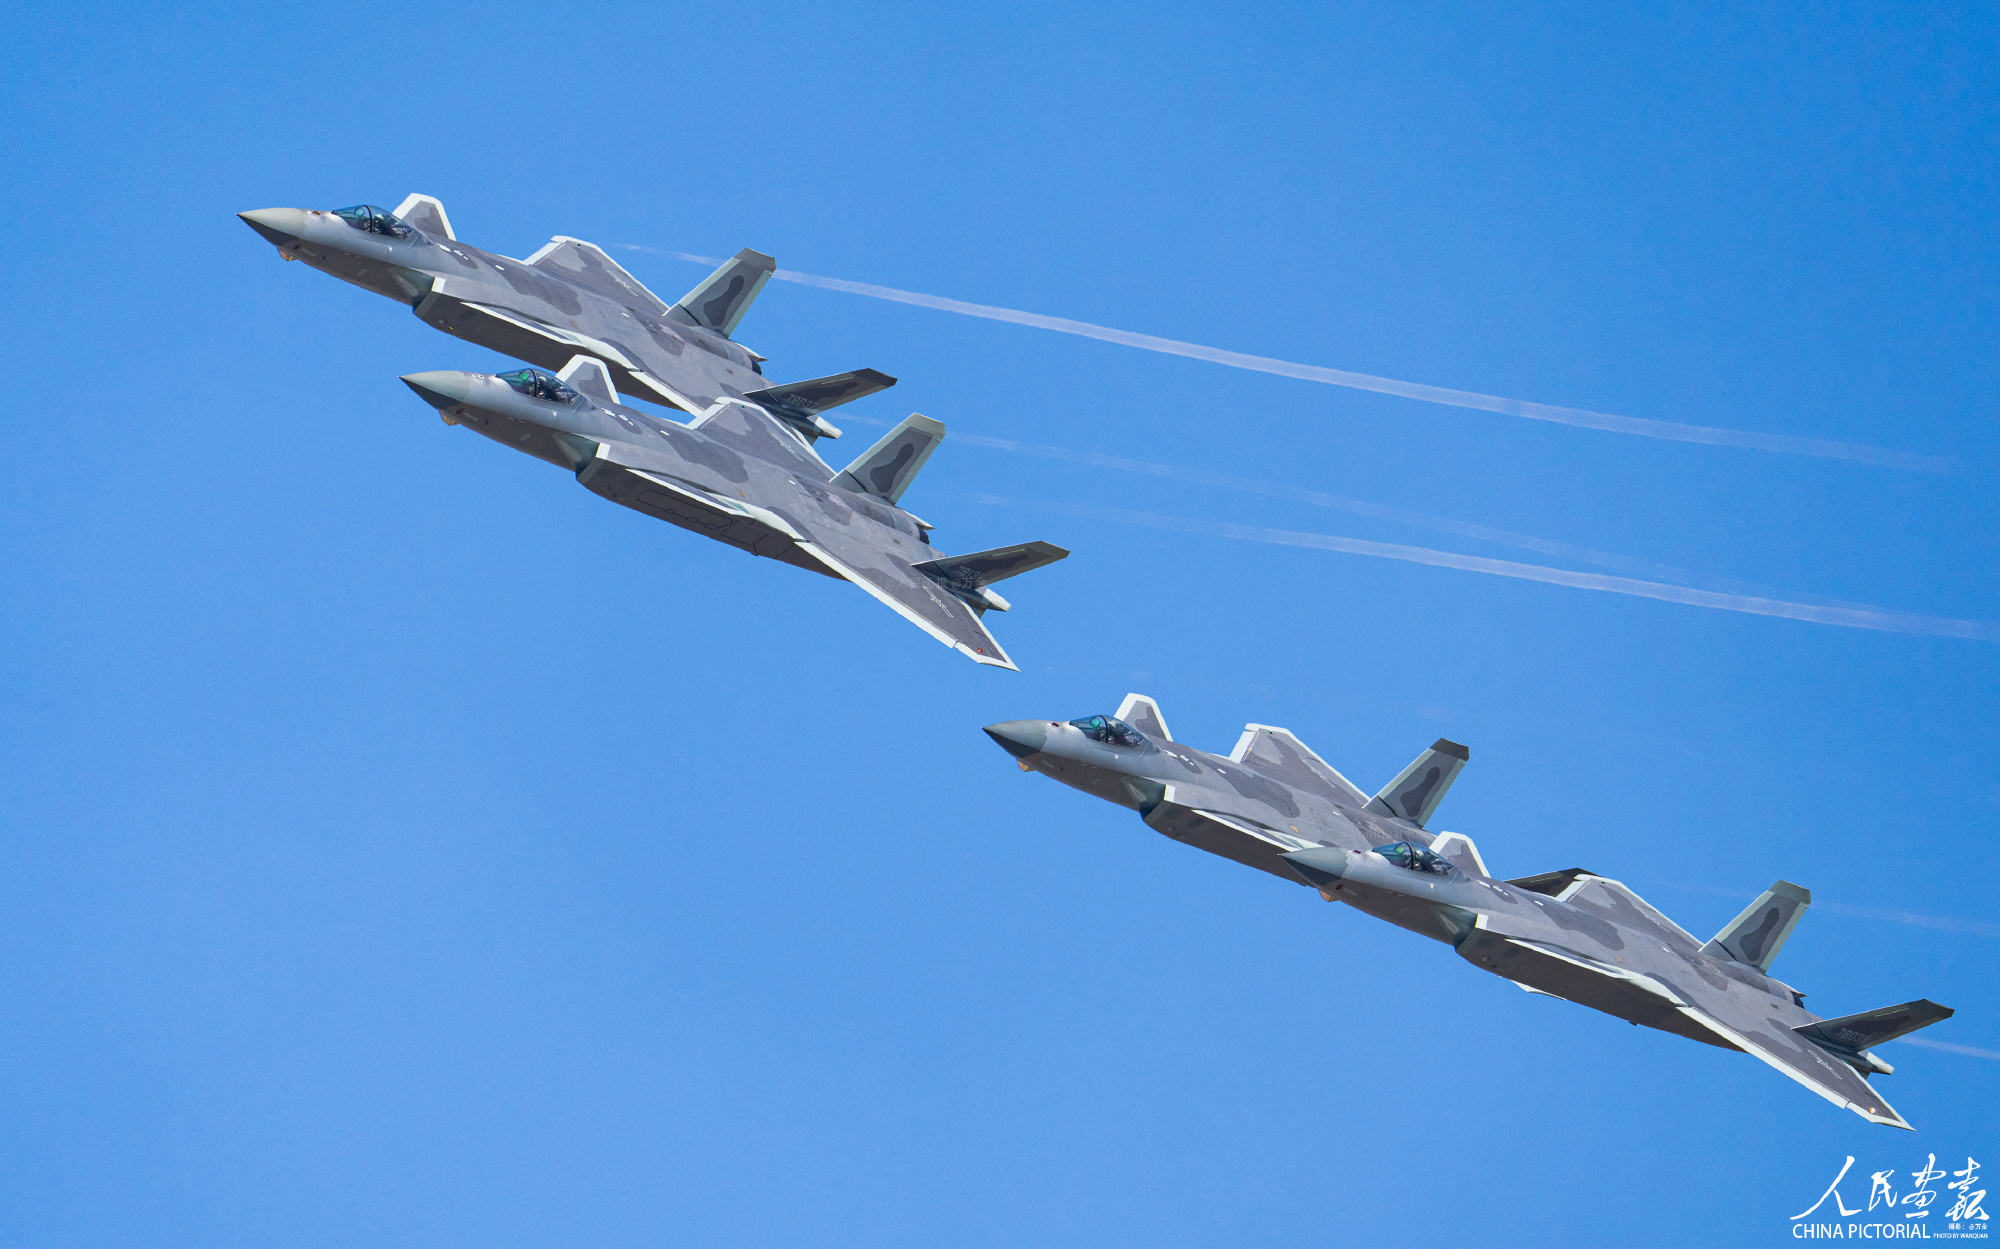J20: (397, 354, 1071, 673), (1278, 830, 1955, 1132), (980, 692, 1606, 1002), (235, 191, 898, 446)
